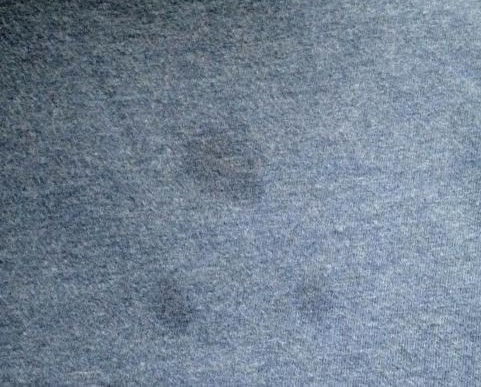stain: (181, 128, 272, 208), (136, 266, 197, 336), (286, 275, 338, 324)
